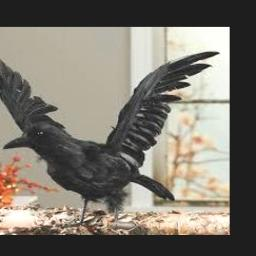Crow: (0, 50, 221, 223)
